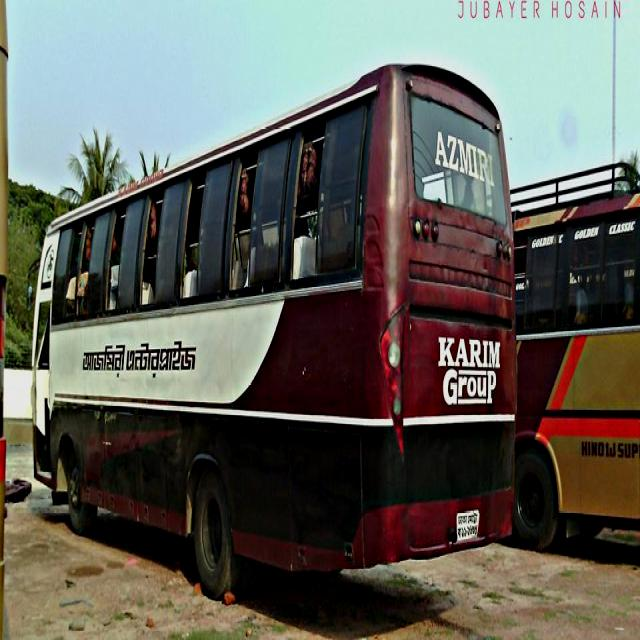bus: (31, 55, 519, 604)
